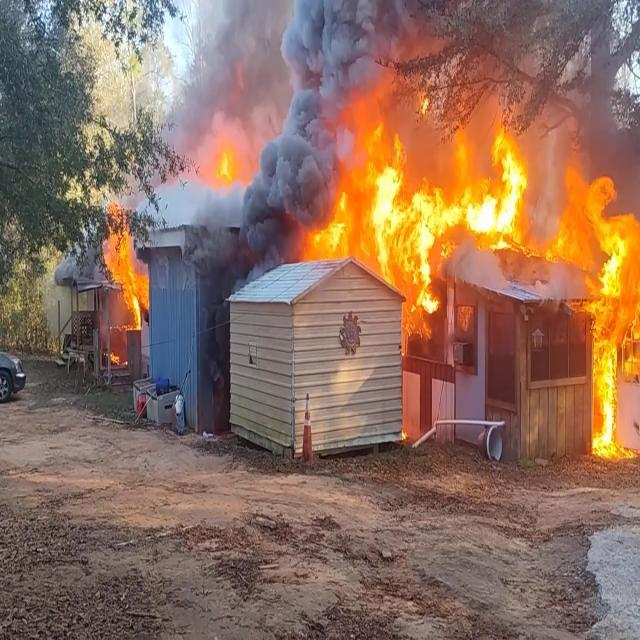Fire: (296, 96, 538, 316), (563, 151, 640, 461), (102, 200, 150, 330)
Smoke: (158, 0, 634, 166)
